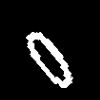chain: (26, 32, 72, 87)
